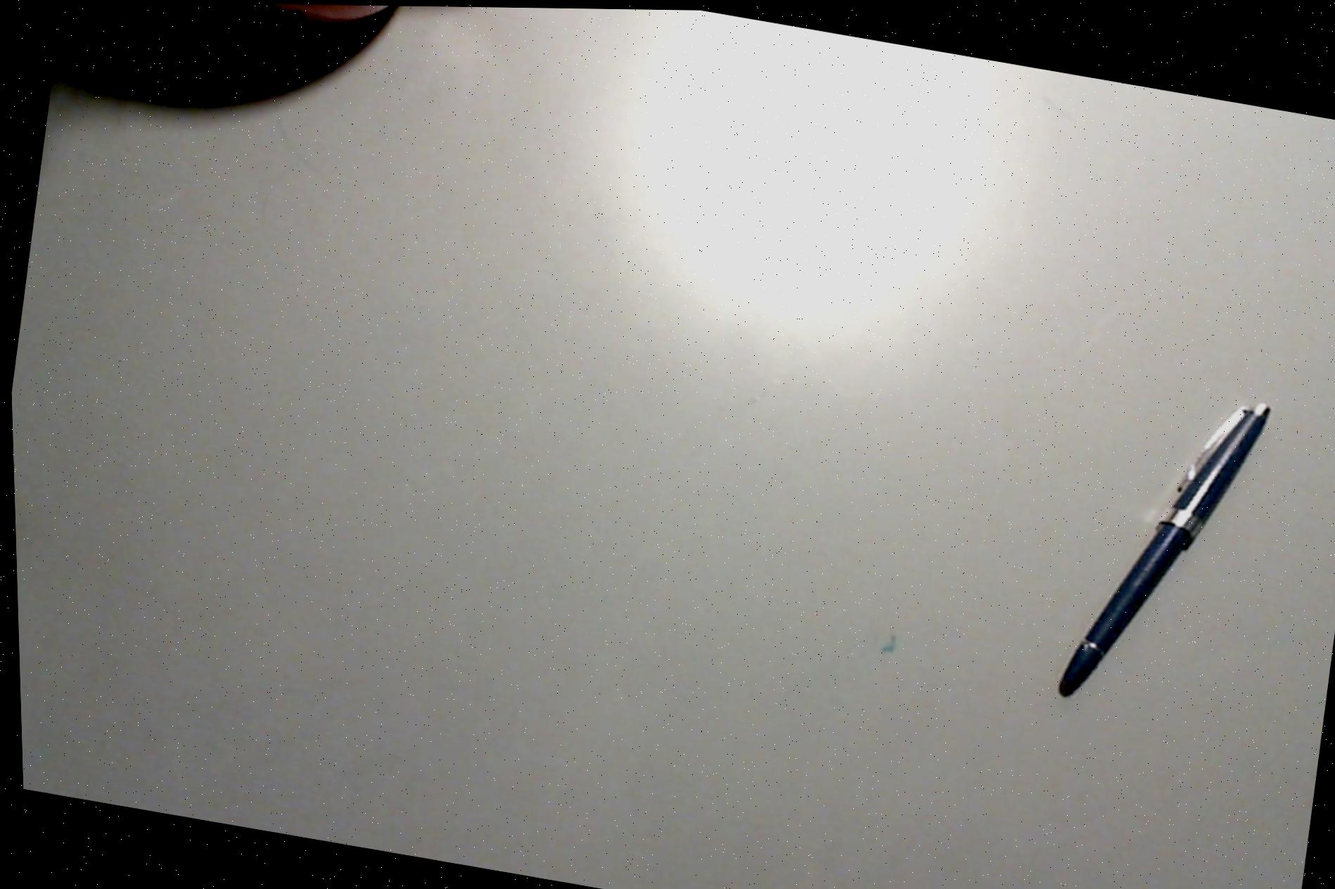pen-pencil: (1058, 403, 1270, 697)
